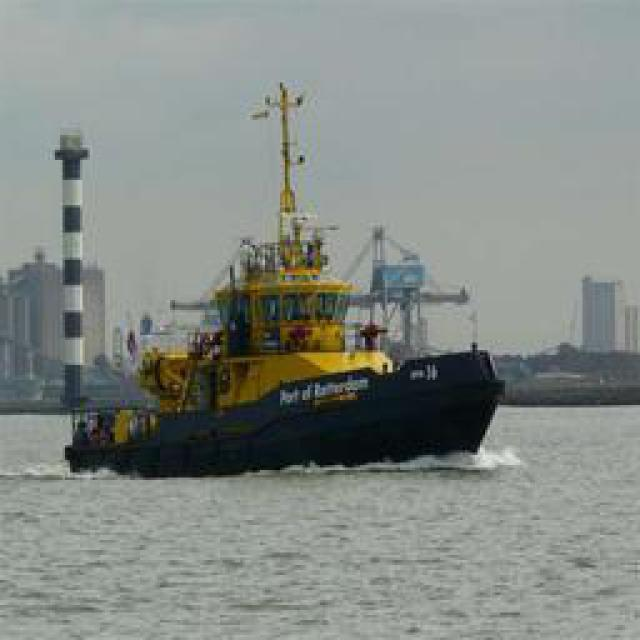Ship: (66, 134, 499, 477)
